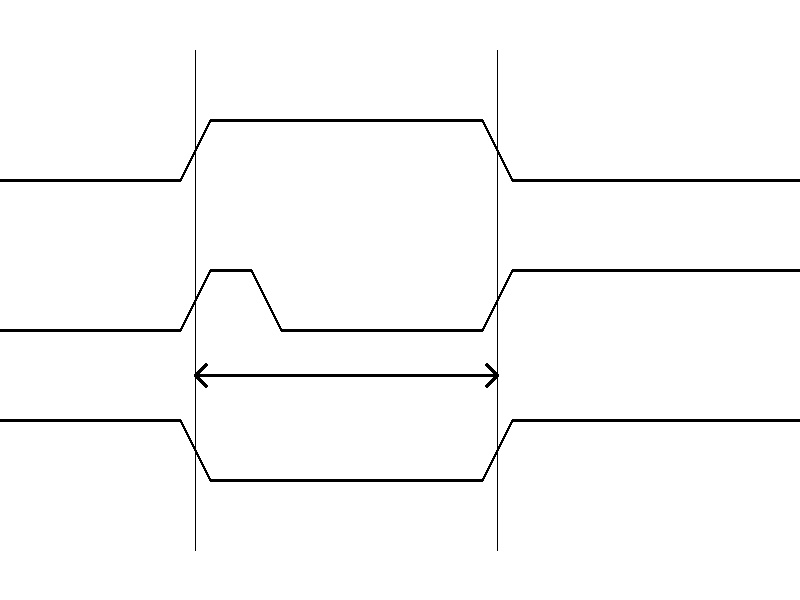double_arrow: (195, 360, 497, 390)
